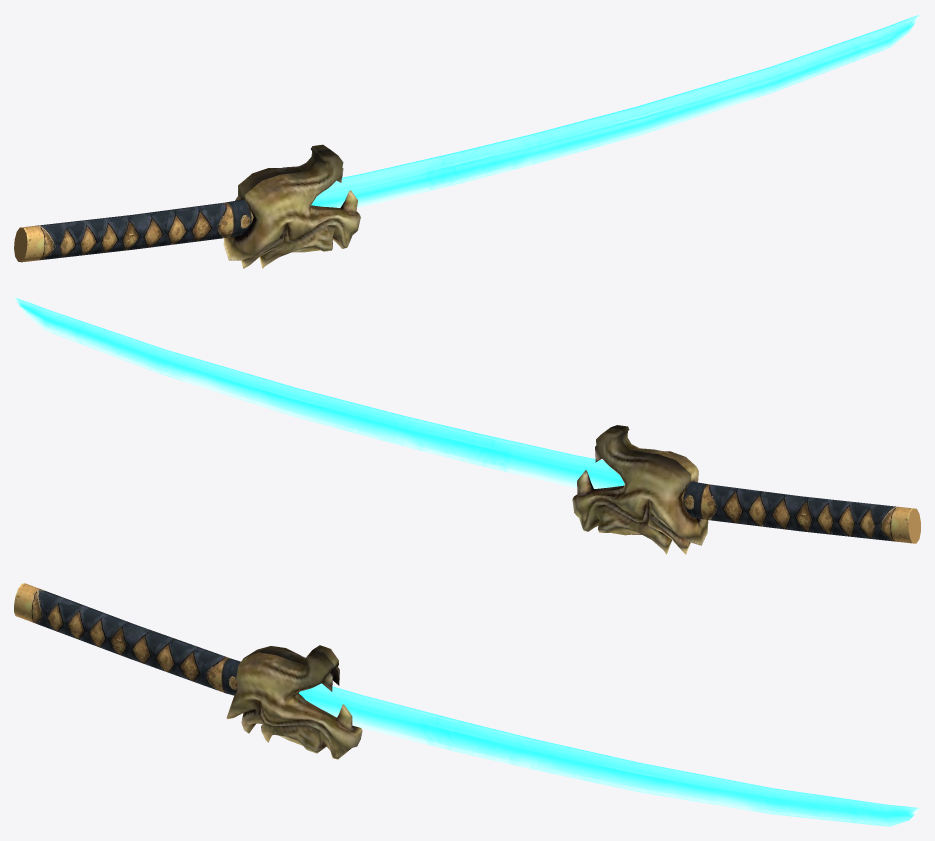
File: katana.glb
3 renders of one model, top to bottom at view 1: azimuth 30°, elevation 25°; view 2: azimuth 150°, elevation 25°; view 3: azimuth 330°, elevation 25°, orthographic.
Visible parts, largest first — view 1: Hilt, Blade; view 2: Hilt, Blade; view 3: Hilt, Blade.
Boxes of the visible parts, box(x1,y1,x2,y2) form: Hilt: box(14, 144, 360, 268); Blade: box(311, 14, 920, 207); Hilt: box(572, 425, 920, 554); Blade: box(14, 297, 624, 488); Hilt: box(14, 583, 362, 759); Blade: box(299, 683, 920, 826).
Bounding box in the file's own units: 1.23 × 0.1421 × 0.0896.
3 materials, 3 textured.
